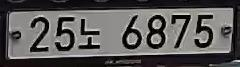2: (26, 13, 53, 55)
5: (54, 14, 78, 53), (193, 12, 216, 49)
6: (118, 13, 144, 51)
7: (168, 12, 193, 51)
8: (143, 11, 168, 50)
노: (78, 14, 105, 53)
